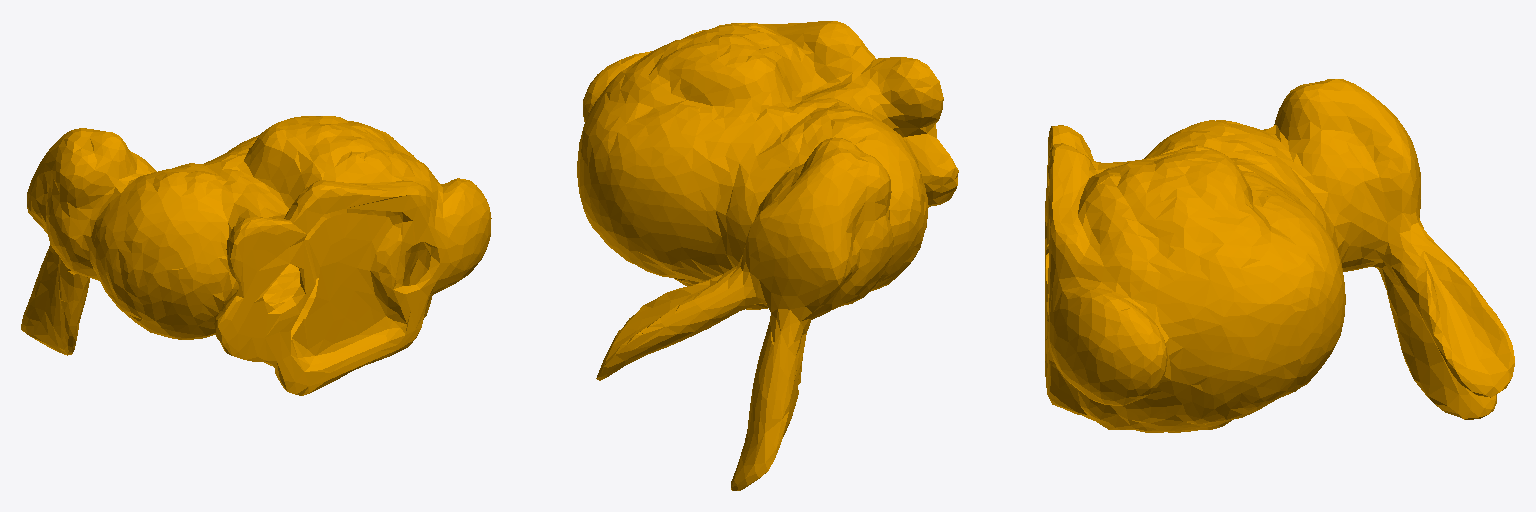
robot.urdf — mujoco_bunny:
<robot name="mujoco_bunny">
  <link name="base">
    <visual><geometry><mesh filename="mujoco_bunny.normalized.obj"/></geometry></visual>
    <collision><geometry><mesh filename="mujoco_bunny.collision_box.obj"/></geometry></collision>
  </link>
</robot>

--- Render facts (derived) ---
3 views of the same robot in one strip: view 1: azimuth 30°, elevation 25°; view 2: azimuth 150°, elevation 25°; view 3: azimuth 270°, elevation 25° (orthographic).
Robot: mujoco_bunny — 1 links, 0 joints (none); root link base; default pose: every joint at zero.
Links seen in each view (by area): view 1: base; view 2: base; view 3: base.
Boxes of the visible links, <box> form: base: <box>21,116,491,395</box>; base: <box>577,21,958,490</box>; base: <box>1045,79,1514,432</box>.
Size in the robot's own frame: 1 by 0.9905 by 0.7759 metres.
Meshes: 1 distinct files referenced, 1 mesh visuals loaded (1 OBJ).
